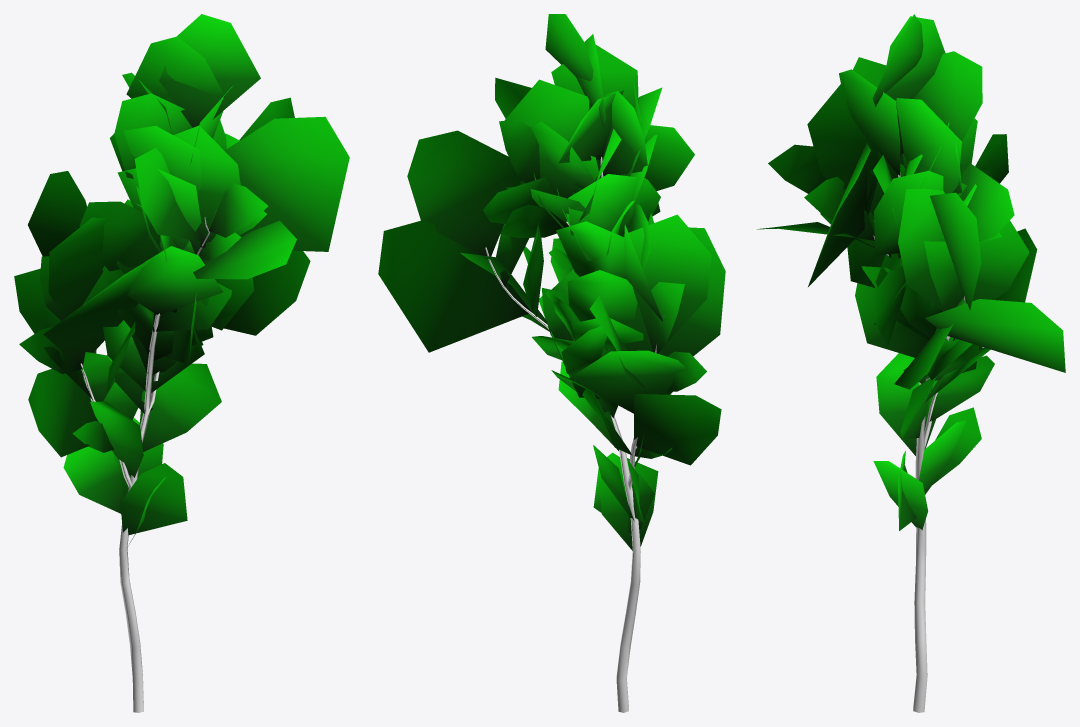
File: Oak_Small_3.fbx
3 views of the same model, side by side, from view 1: azimuth 30°, elevation 25°; view 2: azimuth 150°, elevation 25°; view 3: azimuth 270°, elevation 25° (orthographic). The views are drawn at different scales.
Parts seen in each view (by area): view 1: Oak_Small_3; view 2: Oak_Small_3; view 3: Oak_Small_3.
Boxes of the visible parts, x1,y1,x2,y2 form: Oak_Small_3: [14, 14, 349, 712]; Oak_Small_3: [378, 14, 725, 712]; Oak_Small_3: [757, 14, 1065, 712].
Size of the model in its own units: 4.64 by 10.36 by 4.02.
